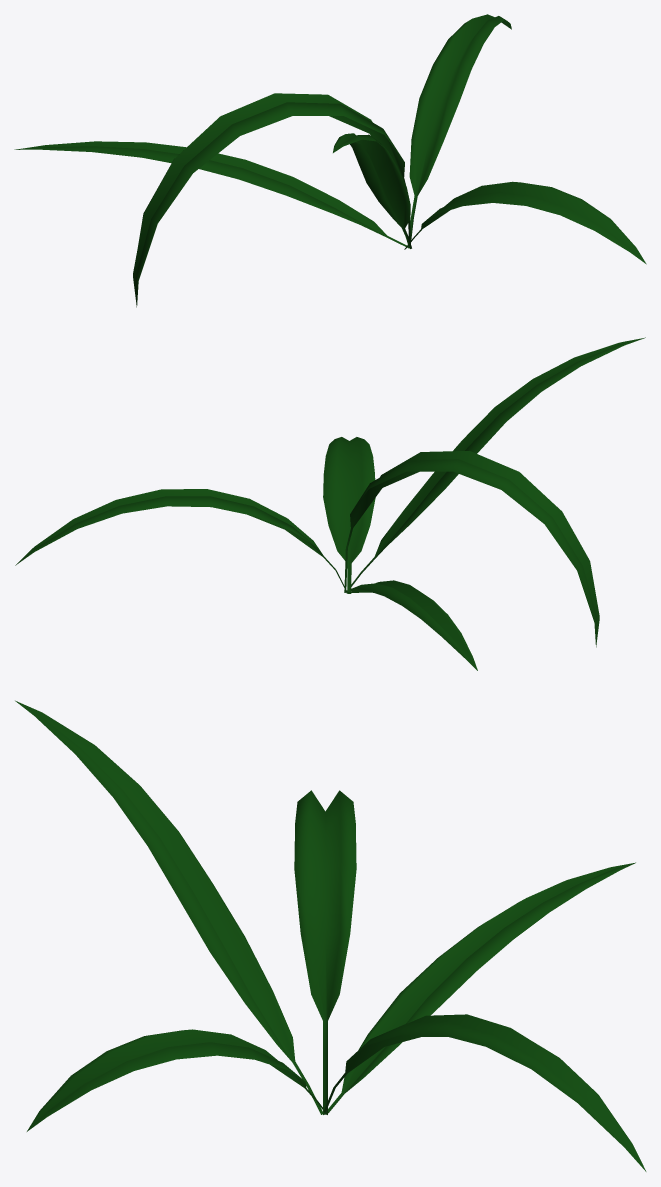
File: Bush_003.FBX
The picture shows the model from 3 angles, top to bottom: view 1: azimuth 30°, elevation 25°; view 2: azimuth 150°, elevation 25°; view 3: azimuth 270°, elevation 25°; orthographic projection. The views are drawn at different scales.
Parts seen in each view (by area): view 1: Bush_003; view 2: Bush_003; view 3: Bush_003.
Boxes of the visible parts, <box> form: Bush_003: <box>14,14,646,307</box>; Bush_003: <box>15,337,645,670</box>; Bush_003: <box>15,700,646,1171</box>.
Bounding box in the file's own units: 167 × 74.42 × 146.
